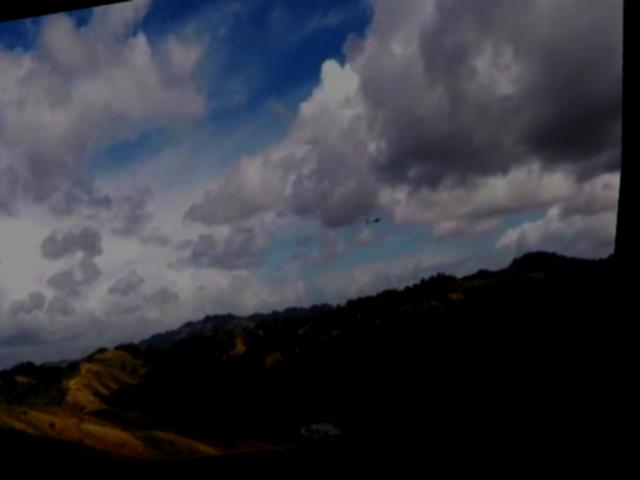iha: (363, 219, 396, 237)
